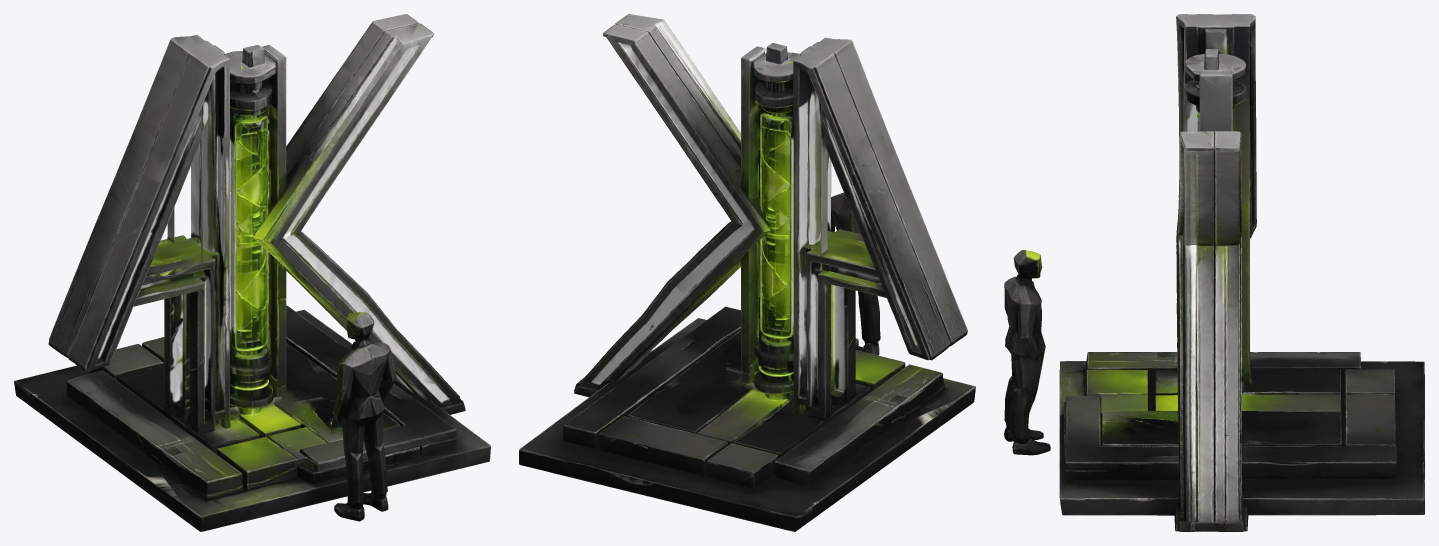
File: ak-hero.glb
3 renders of one model, left to right at view 1: azimuth 30°, elevation 25°; view 2: azimuth 150°, elevation 25°; view 3: azimuth 270°, elevation 25°, orthographic. The views are drawn at different scales.
Visible parts, largest first — view 1: model; view 2: model; view 3: model.
Boxes of the visible parts, <box> form: model: <box>14,14,490,531</box>; model: <box>519,14,975,531</box>; model: <box>1004,14,1424,531</box>.
Size of the model in its own units: 1.86 by 1.9 by 1.83.
1 material, 1 textured.
